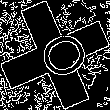O_SW: (23, 25, 87, 85)
